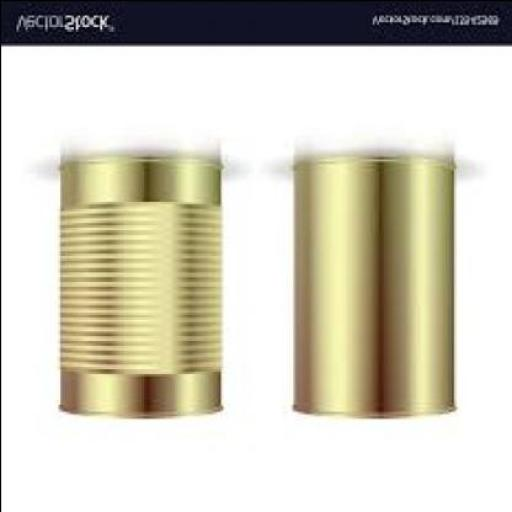metal: (290, 158, 452, 418), (55, 158, 217, 418)
